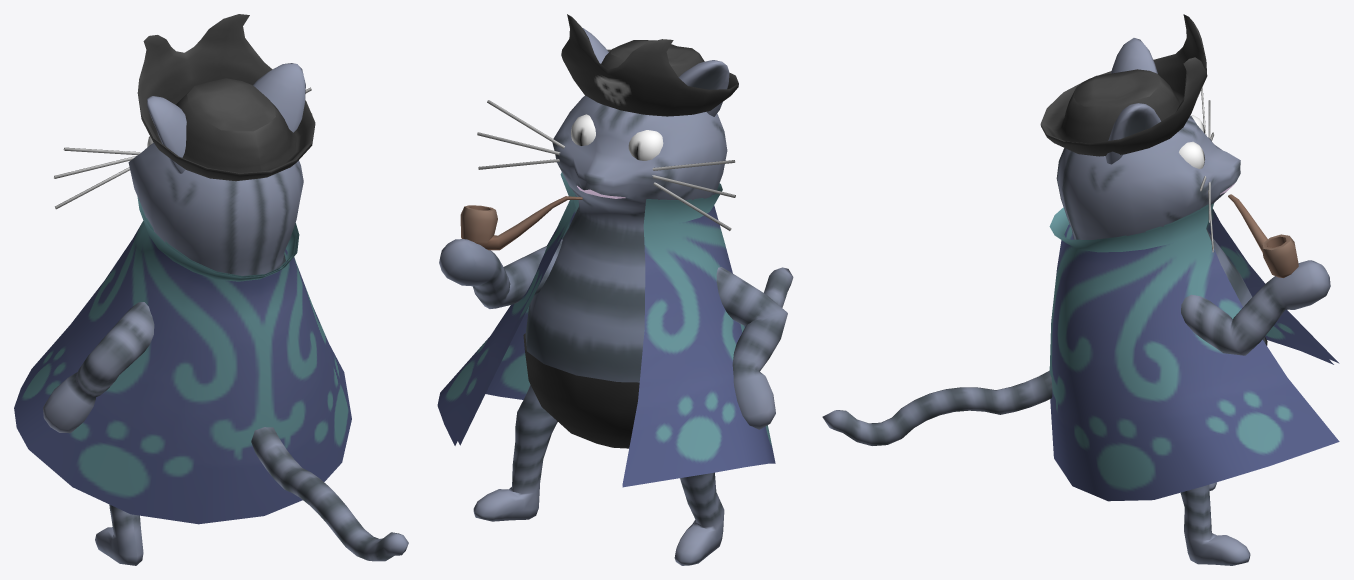
The model's file is neko_idle_a_08.fbx.
3 views of the same model, side by side, from view 1: azimuth 30°, elevation 25°; view 2: azimuth 150°, elevation 25°; view 3: azimuth 270°, elevation 25° (orthographic). The views are drawn at different scales.
Visible parts, largest first — view 1: I_a_08; view 2: I_a_08; view 3: I_a_08.
Part boxes in pixels (x1=…): I_a_08: x1=14, y1=14, x2=408, y2=565; I_a_08: x1=437, y1=14, x2=793, y2=565; I_a_08: x1=822, y1=14, x2=1339, y2=565.
Size of the model in its own units: 1.26 by 1.94 by 1.86.
Materials: 1 (1 with a texture image).
